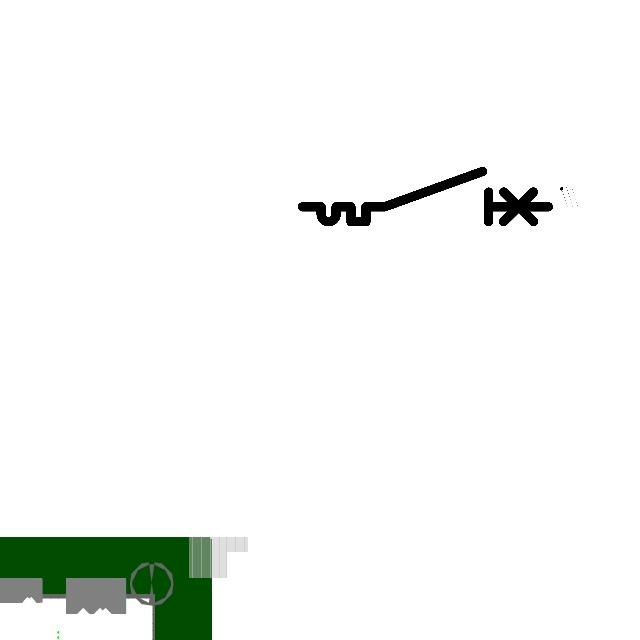interruptor_termomagnetico: (296, 165, 555, 228)
